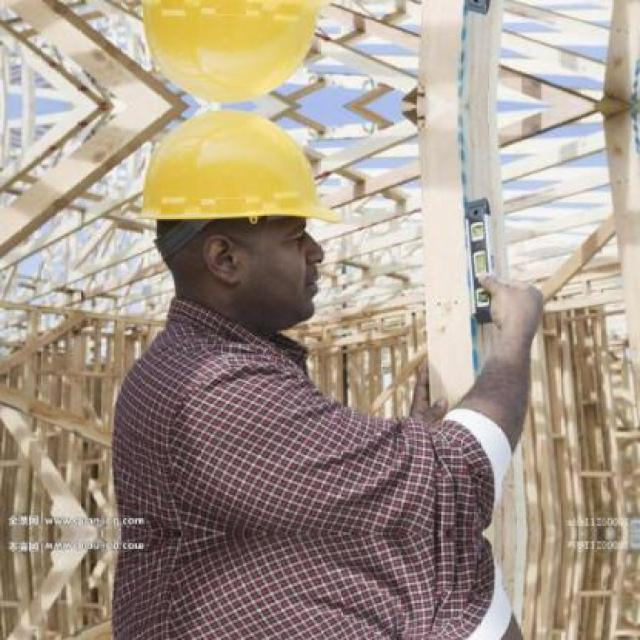helmet: (132, 111, 336, 329), (132, 0, 337, 102)
